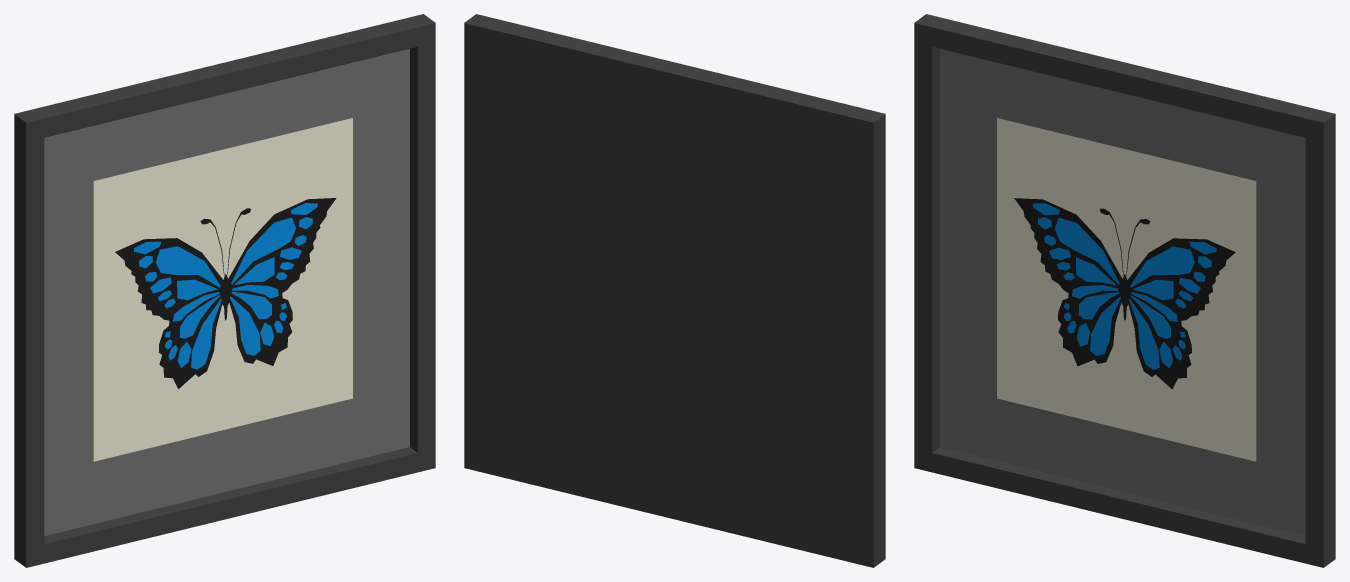
File: picture_052.glb
3 renders of one model, left to right at view 1: azimuth 30°, elevation 25°; view 2: azimuth 150°, elevation 25°; view 3: azimuth 330°, elevation 25°, orthographic.
Parts seen in each view (by area): view 1: picture_052; view 2: picture_052; view 3: picture_052.
Boxes of the visible parts, left/top/right/bottom form: picture_052: left=14, top=14, right=435, bottom=567; picture_052: left=464, top=14, right=885, bottom=567; picture_052: left=914, top=14, right=1335, bottom=567.
Size of the model in its own units: 0.7634 by 0.7931 by 0.0395.
1 material, 1 textured.
